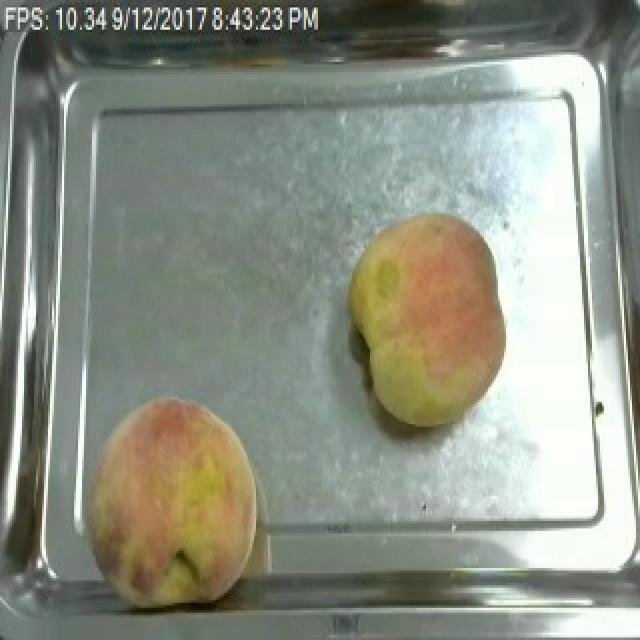Fruit: (80, 387, 266, 613), (344, 208, 514, 434)
